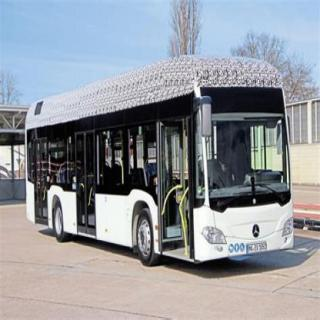Normal_vehicle: (18, 47, 320, 280)
